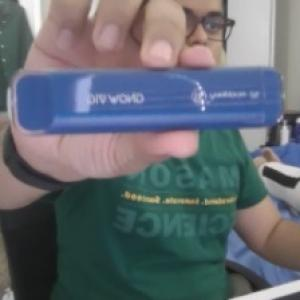Diamond-E-Ciggirate: (5, 60, 288, 136)
